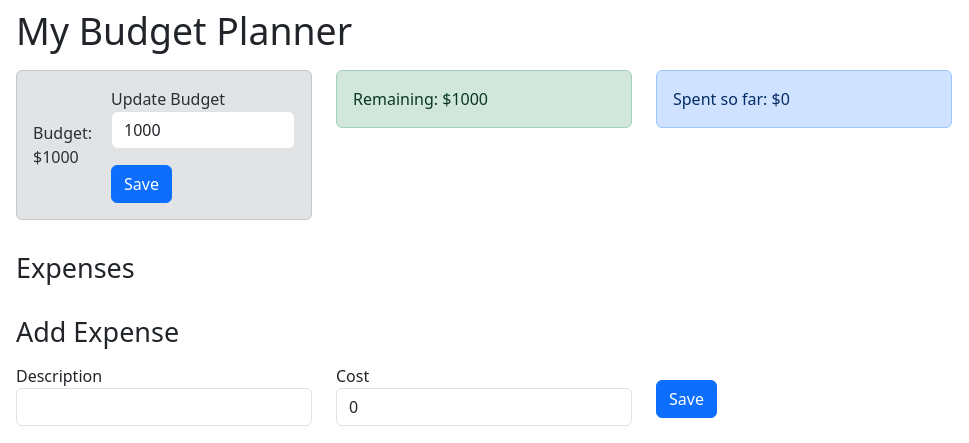
Test: Update Budget to Remaining Amount › when the user updates their budget, that amount should reflect on the remaining amount too
# budget 2000
Step 1. Replace the text in the number field labelled "Update Budget" with "2000" → (203, 130), box [111,111,295,149]
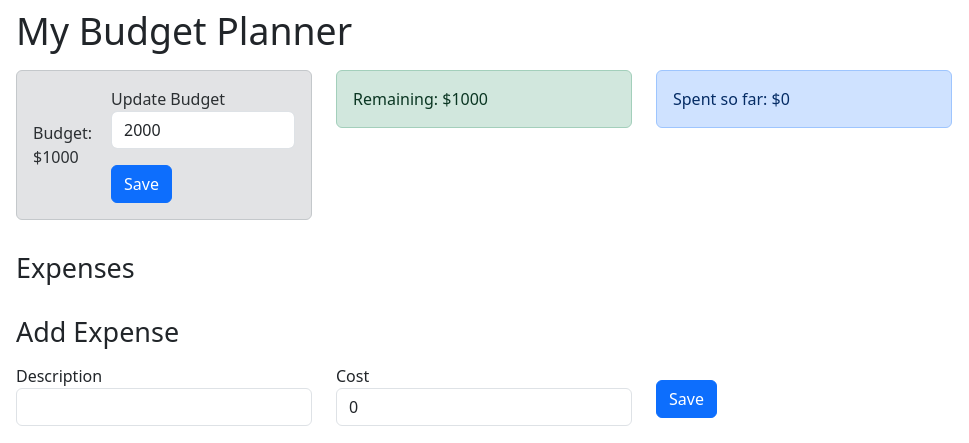
Step 2. Click the button with test id "budgetSaveID" → (141, 184), box [111,165,172,203]
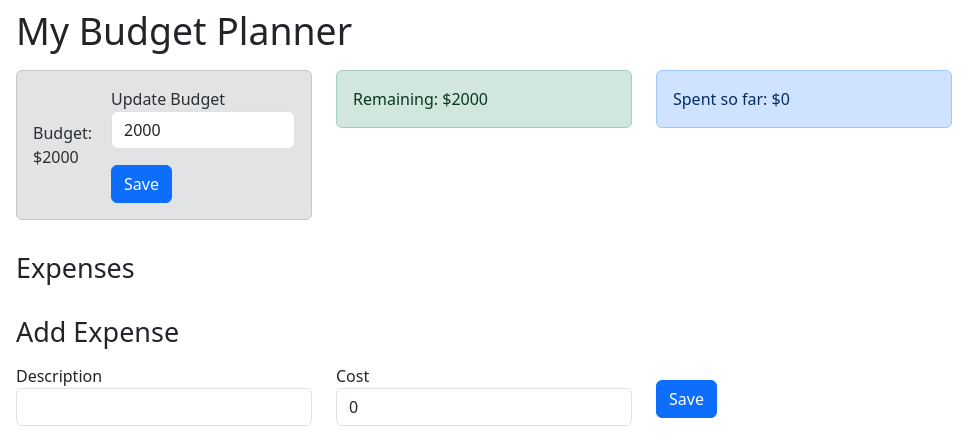
Now the text "Remaining: $1000" reads "Remaining: $2000", box [353,88,488,110]
